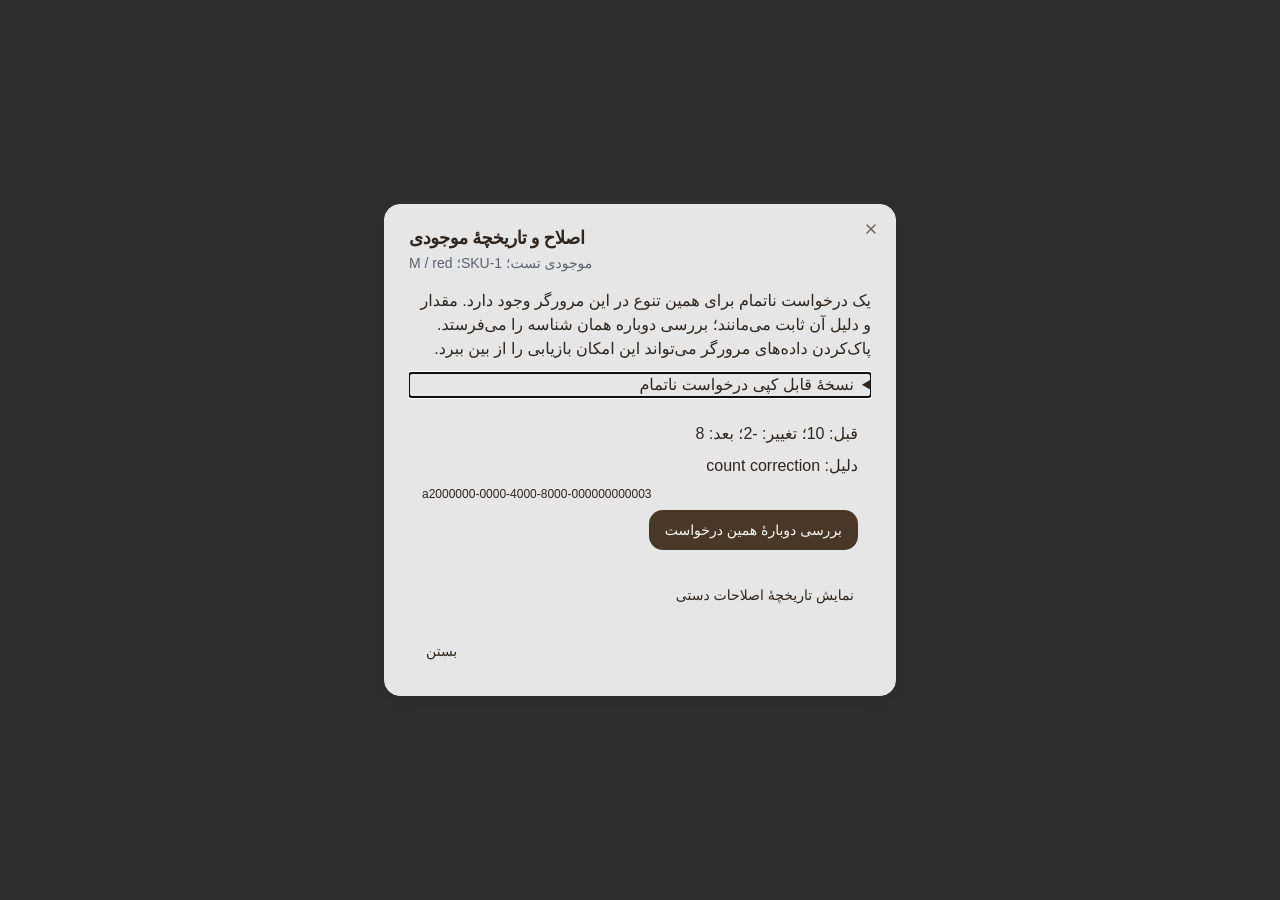
Test: adjustment confirmation and recovery UI › reopens with the saved immutable request instead of generating a new key
Click the button "بررسی دوبارهٔ همین درخواست" at (753, 530), box [649,510,858,550]
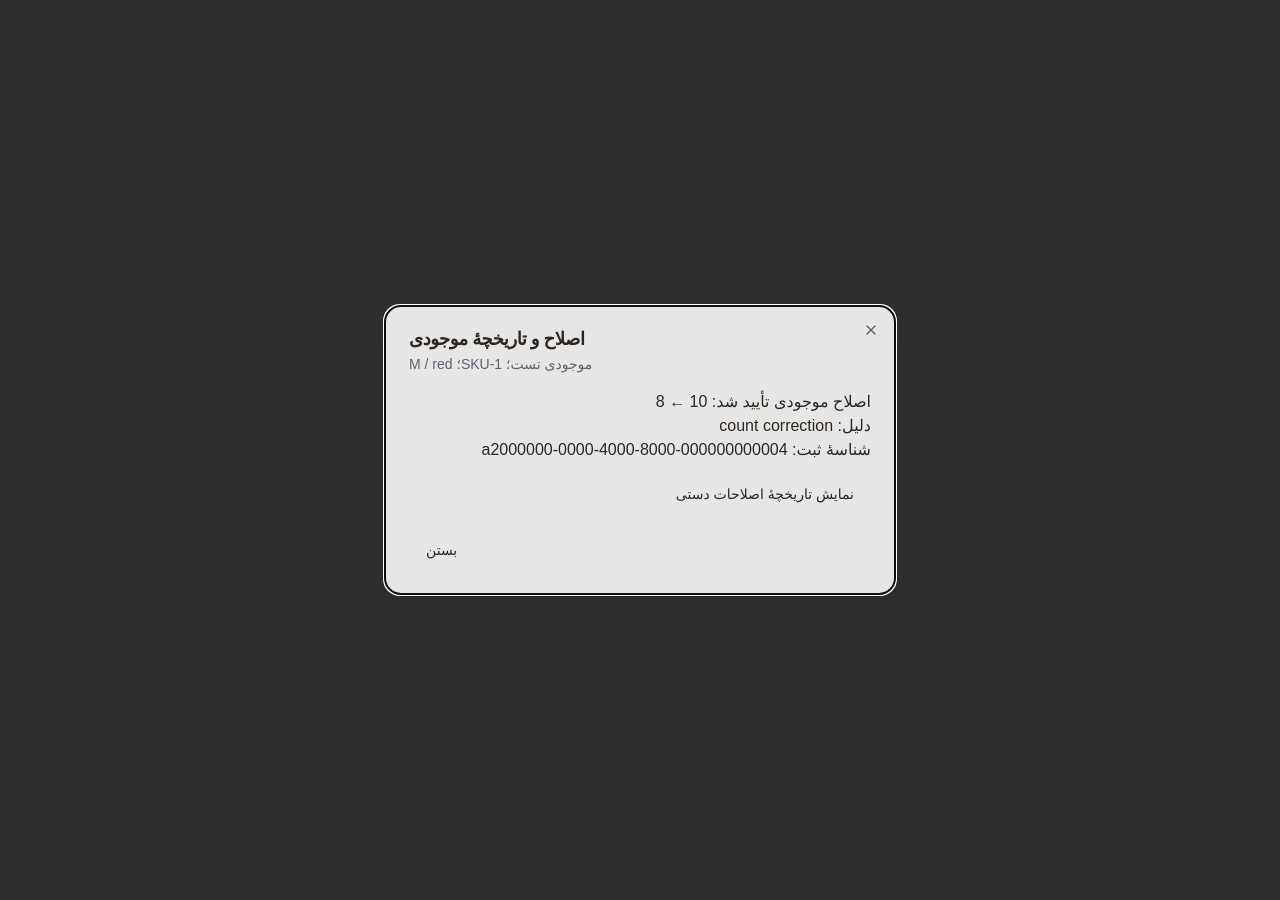
Expected: the text "اصلاح موجودی تأیید شد: 10 ← 8" is shown, [656,393,871,410]
